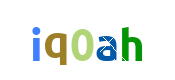0: (44, 0, 124, 80)
A: (47, 0, 127, 80)
H: (90, 0, 170, 80)
I: (17, 0, 97, 80)
Q: (40, 0, 120, 80)
